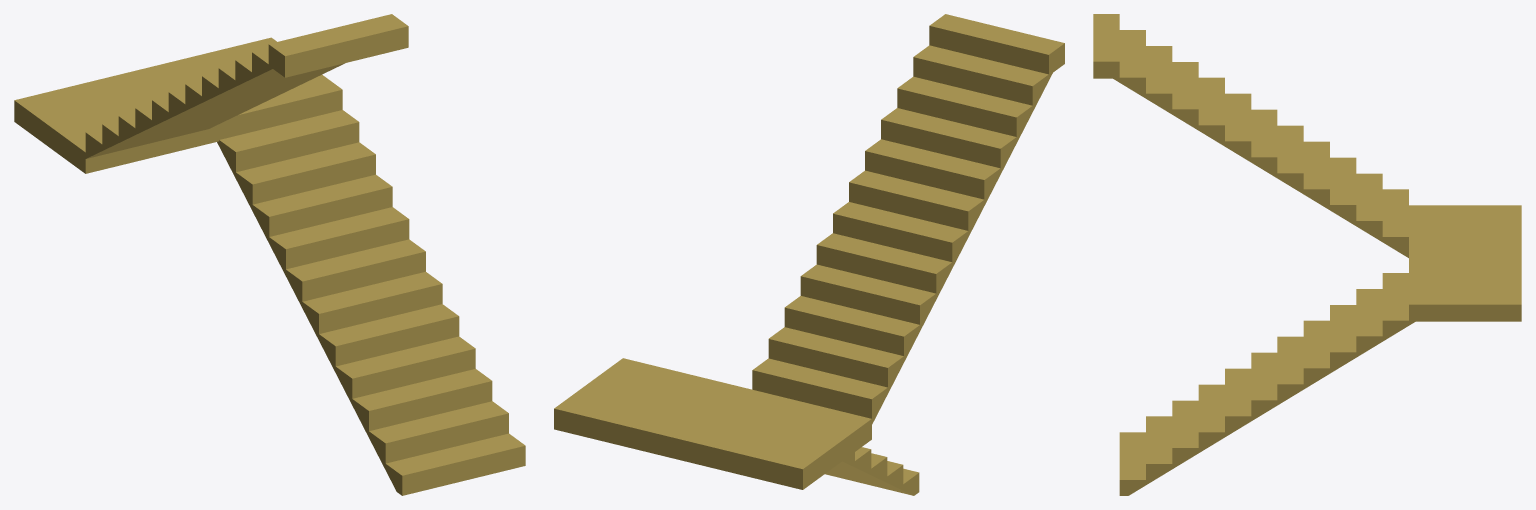
Rendered from arch_stair_u_f450.glb.
3 views of the same model, side by side, from view 1: azimuth 30°, elevation 25°; view 2: azimuth 150°, elevation 25°; view 3: azimuth 270°, elevation 25° (orthographic). The views are drawn at different scales.
Visible parts, largest first — view 1: Stair; view 2: Stair; view 3: Stair.
Part boxes in pixels (<box>): Stair: <box>14,14,525,495</box>; Stair: <box>554,14,1064,495</box>; Stair: <box>1093,14,1521,495</box>.
Size of what is drawn, in the model's own units: 2.5 by 4.5 by 4.56.
